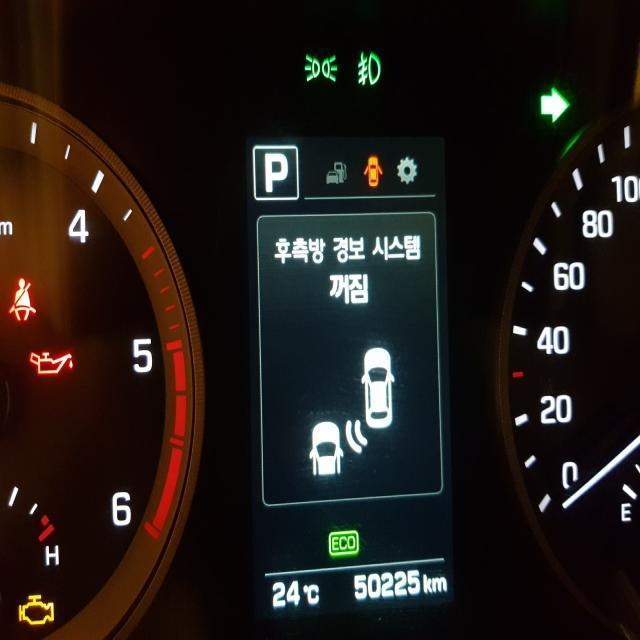Doors: (362, 154, 382, 188)
FrontFogLight: (356, 50, 379, 86)
SideLamp: (303, 52, 337, 84)
